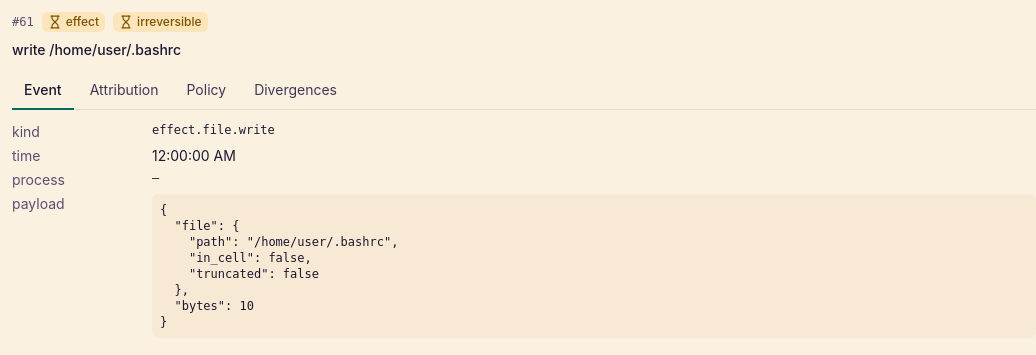
it: Inspector › says when no divergence cites the event
The image size is (1036, 355).
Click the tab "Divergences".
click(296, 91)  # box left=242, top=72, right=349, bottom=110
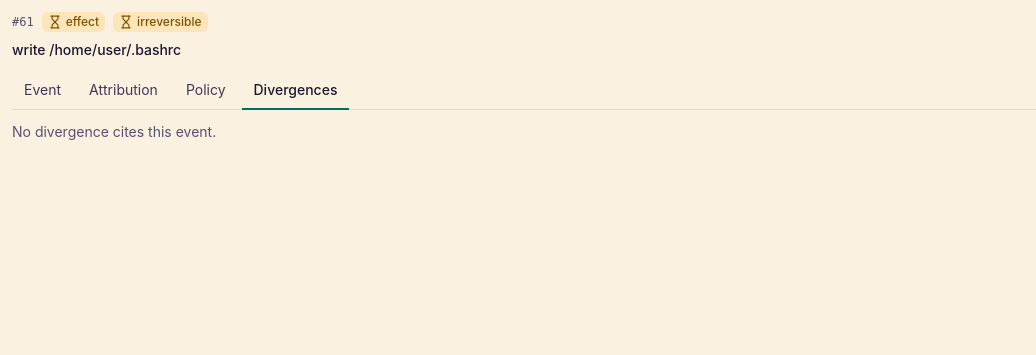
Check: the text "No divergence cites this event." is shown, box left=12, top=123, right=216, bottom=140
